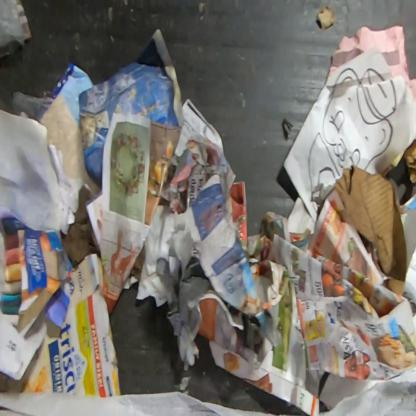cardboard: (0, 252, 122, 398), (0, 201, 74, 382), (334, 164, 408, 298)
soft_plastic: (13, 91, 54, 123)
